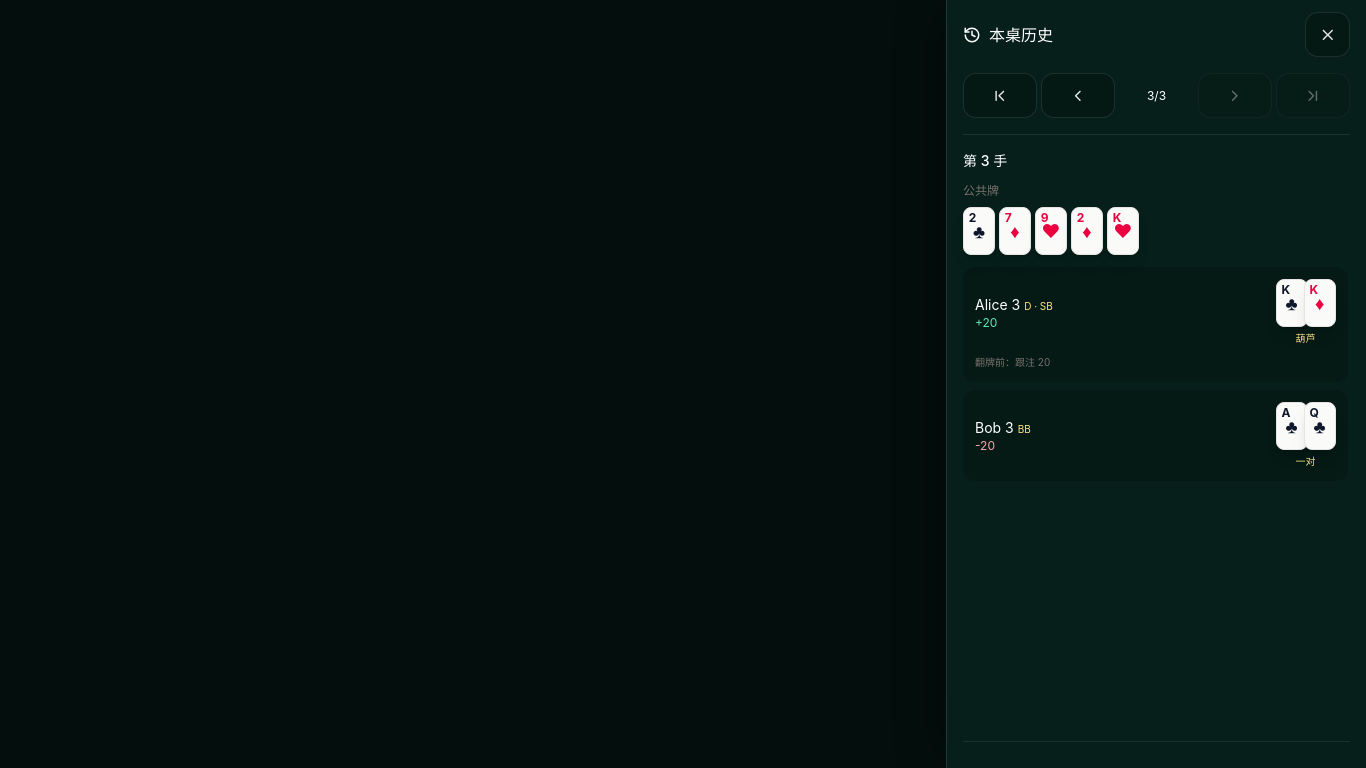
Scenario: HistoryDrawer › loads every cursor page and exposes first/previous/next/last one-hand navigation
Check: the text "3/3" is shown, box [1147,88,1166,102]
Check: the text "Alice 3" is shown, box [975,296,1020,312]
Click the button named "上一手": (1078, 96) [1041,73,1115,118]
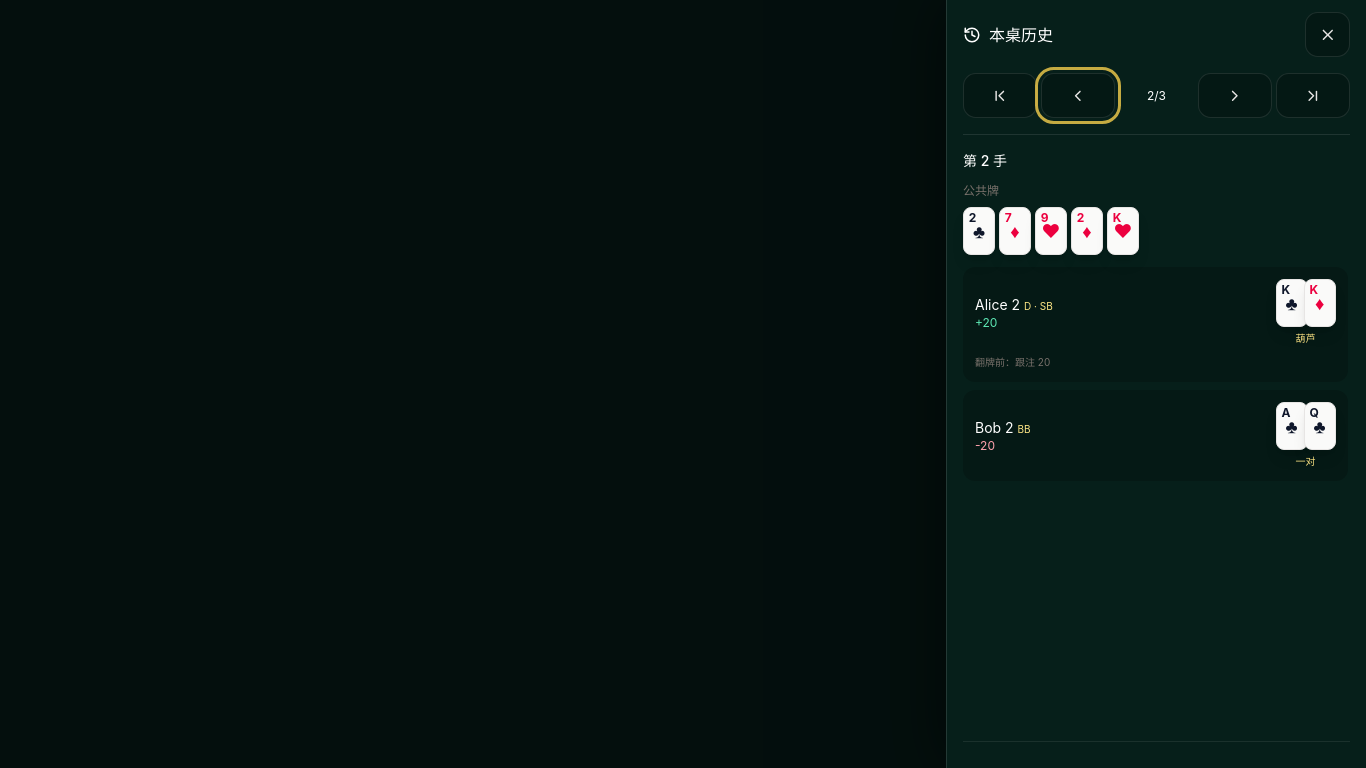
Check: the text "2/3" is shown, box [1147,88,1166,102]
Check: the text "Alice 2" is shown, box [975,296,1020,312]
Click the button named "第一手": (1000, 96) [963,73,1037,118]
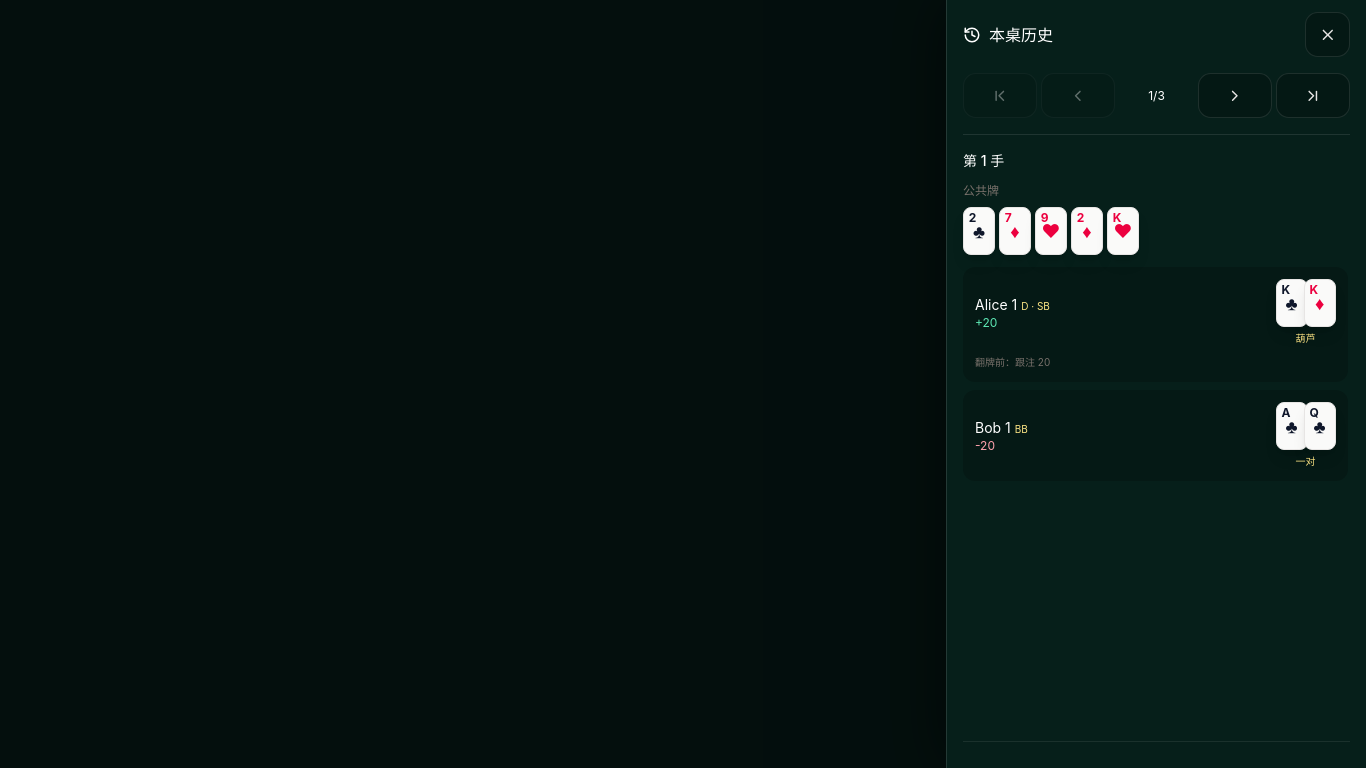
Check: the text "1/3" is shown, box [1148,88,1165,102]
Check: the text "Alice 1" is shown, box [975,296,1017,312]
Click the button named "最后一手": (1313, 96) [1276,73,1350,118]
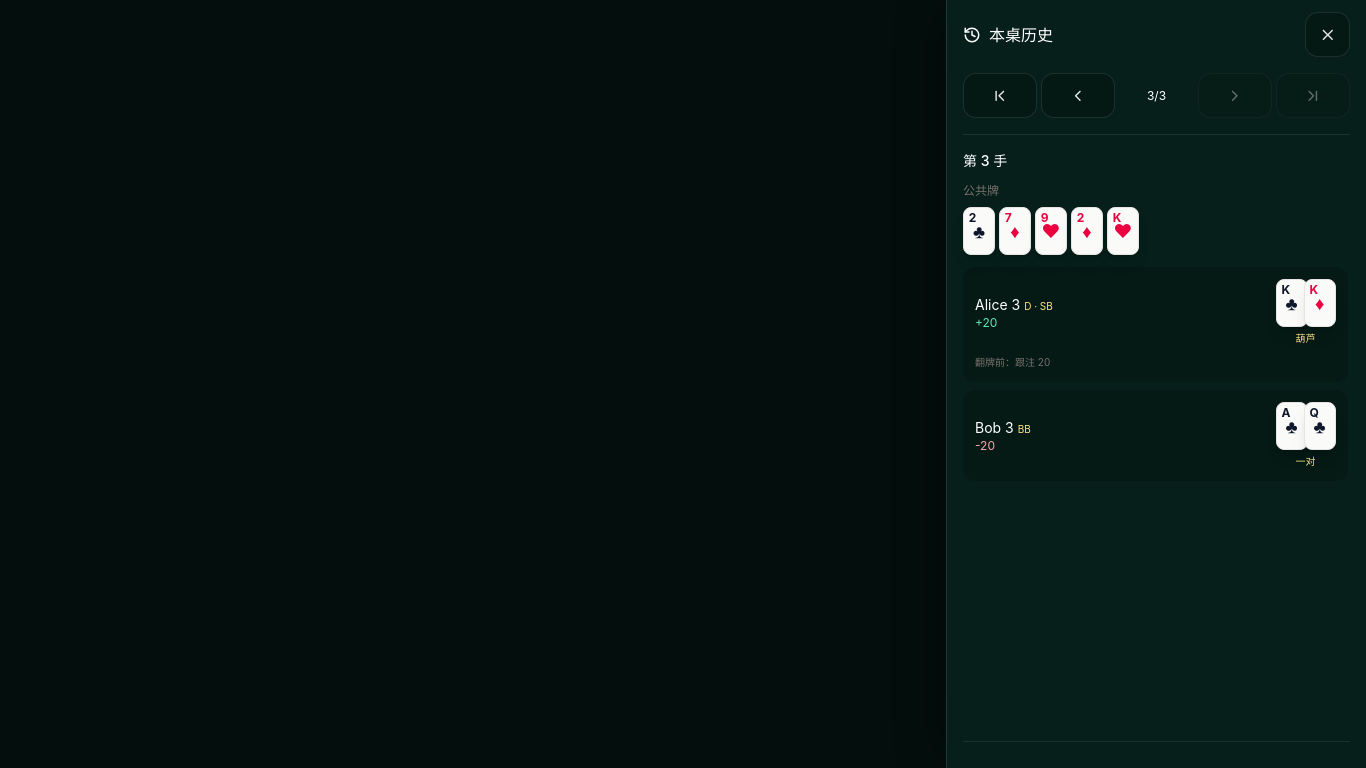
Check: the text "3/3" is shown, box [1147,88,1166,102]
